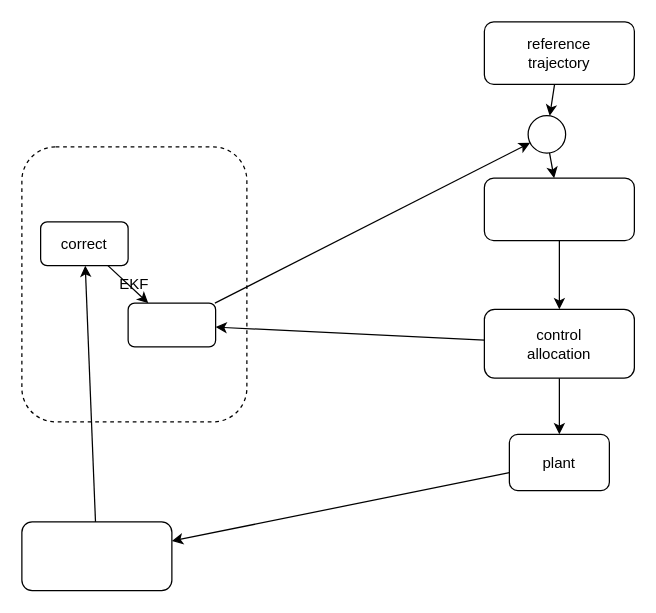
Some shapes in this 656 by 613 pixel diagram are drawn without their labels. The centre of each missing label's shape, as x and y in pixels:
"cascade PID" belongs at point 558,209.
"GPS, IMU, magnetometer" belongs at point 96,556.
"predict" belongs at point 171,324.
